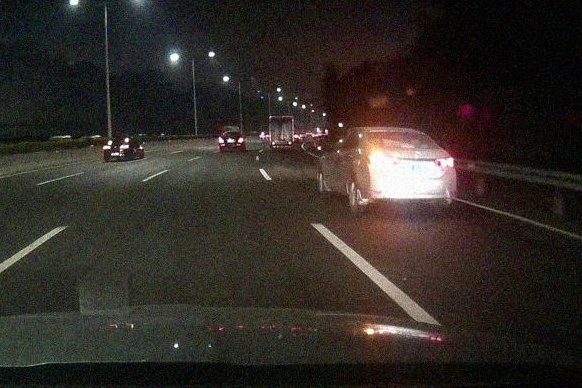L_light: (368, 154, 391, 165), (219, 140, 224, 143), (272, 142, 276, 145)
R_light: (435, 157, 454, 168), (238, 139, 244, 143), (288, 142, 292, 144)
T_light: (391, 132, 406, 136), (229, 132, 234, 133), (279, 118, 284, 119)
night-no: (364, 127, 455, 212), (269, 116, 294, 152), (219, 131, 244, 151)
